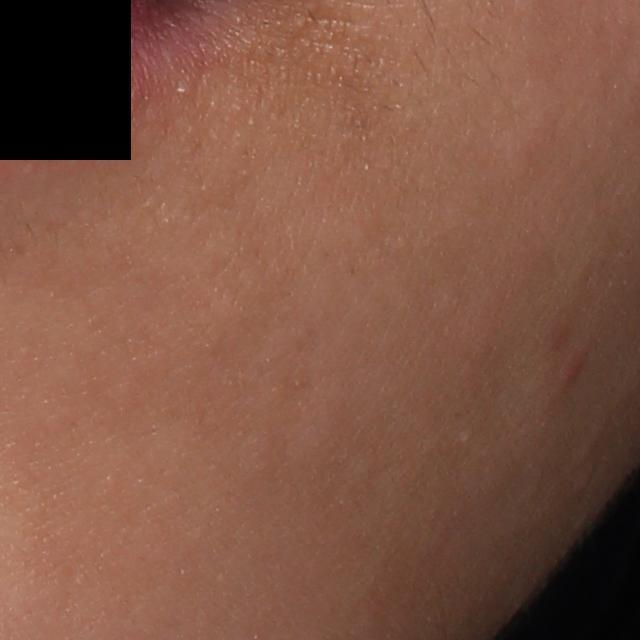papule: (555, 346, 589, 392)
